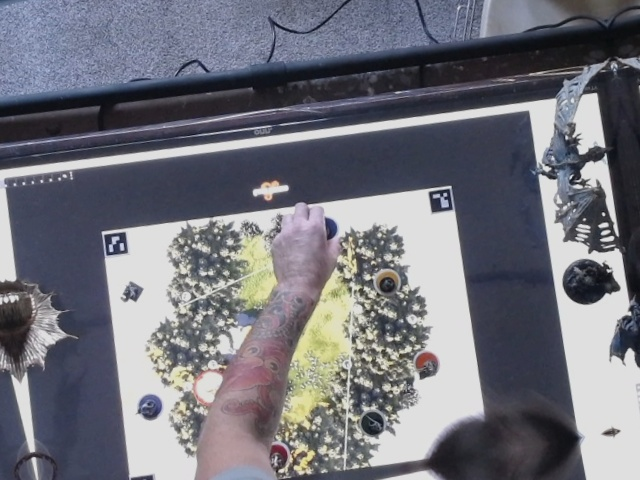blue: (308, 210, 345, 245)
green: (348, 402, 394, 441)
orange: (404, 342, 444, 382)
red: (254, 435, 299, 478)
violet: (130, 385, 169, 424)
yellow: (367, 262, 408, 299)
